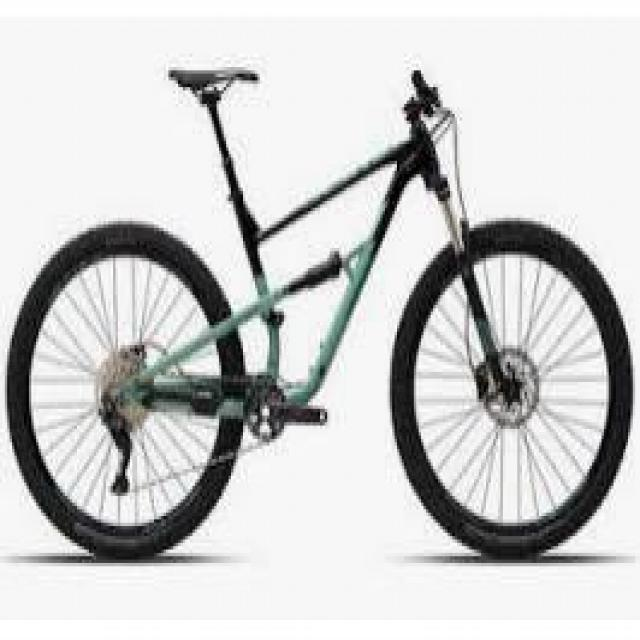bicycle: (13, 48, 640, 574)
